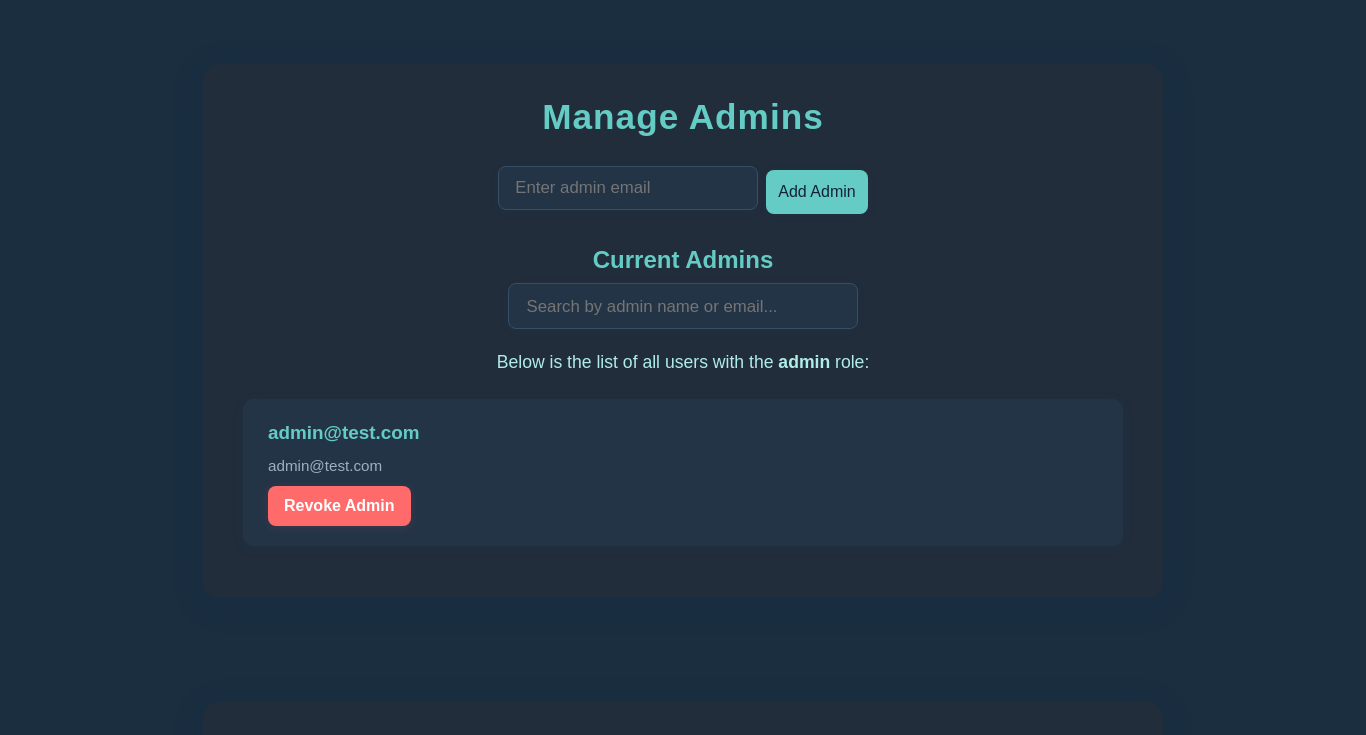
it: ManageAdmins › shows admins and opens revoke modal
Check: the 1st text "admin@test.com" is shown, box [268,422,420,443]
Click the button "Revoke Admin": (339, 506) [268,486,410,526]
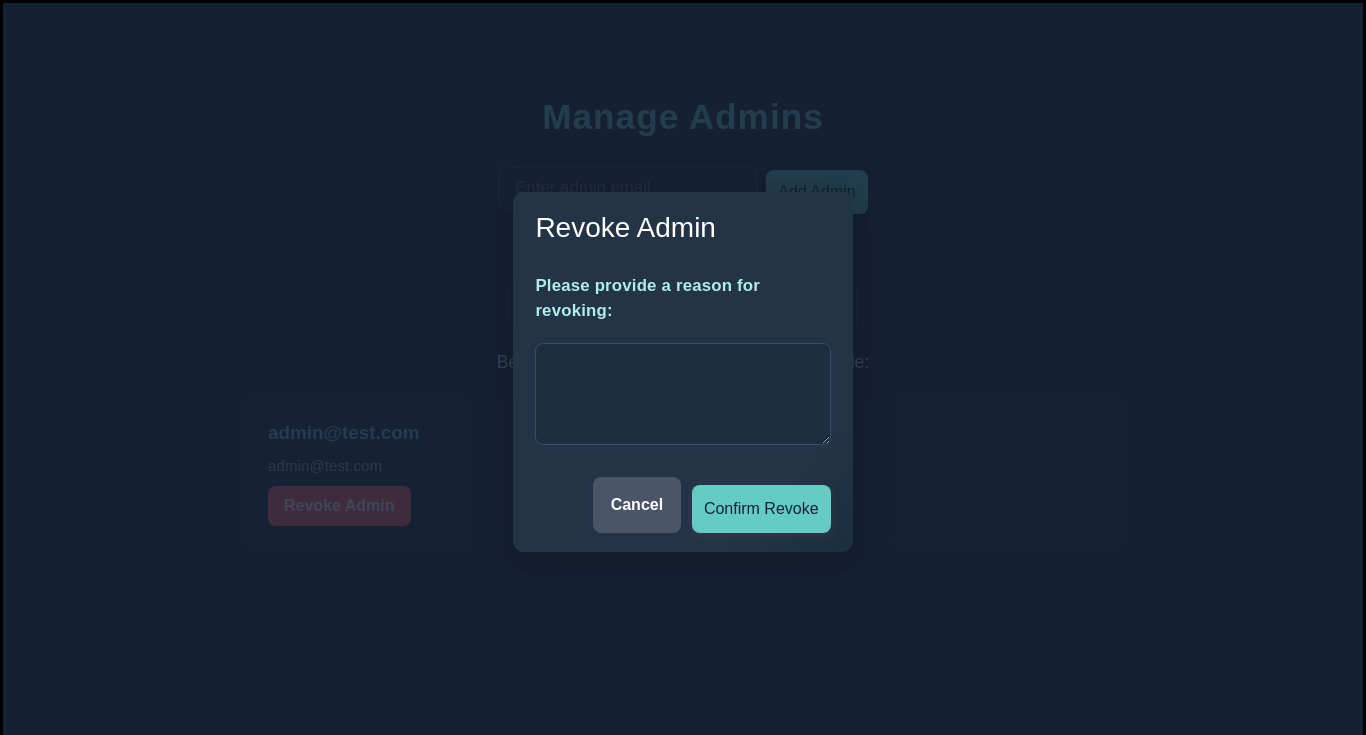
Check: the text box labelled "Please provide a reason for revoking:" is shown, box [535,343,831,445]
